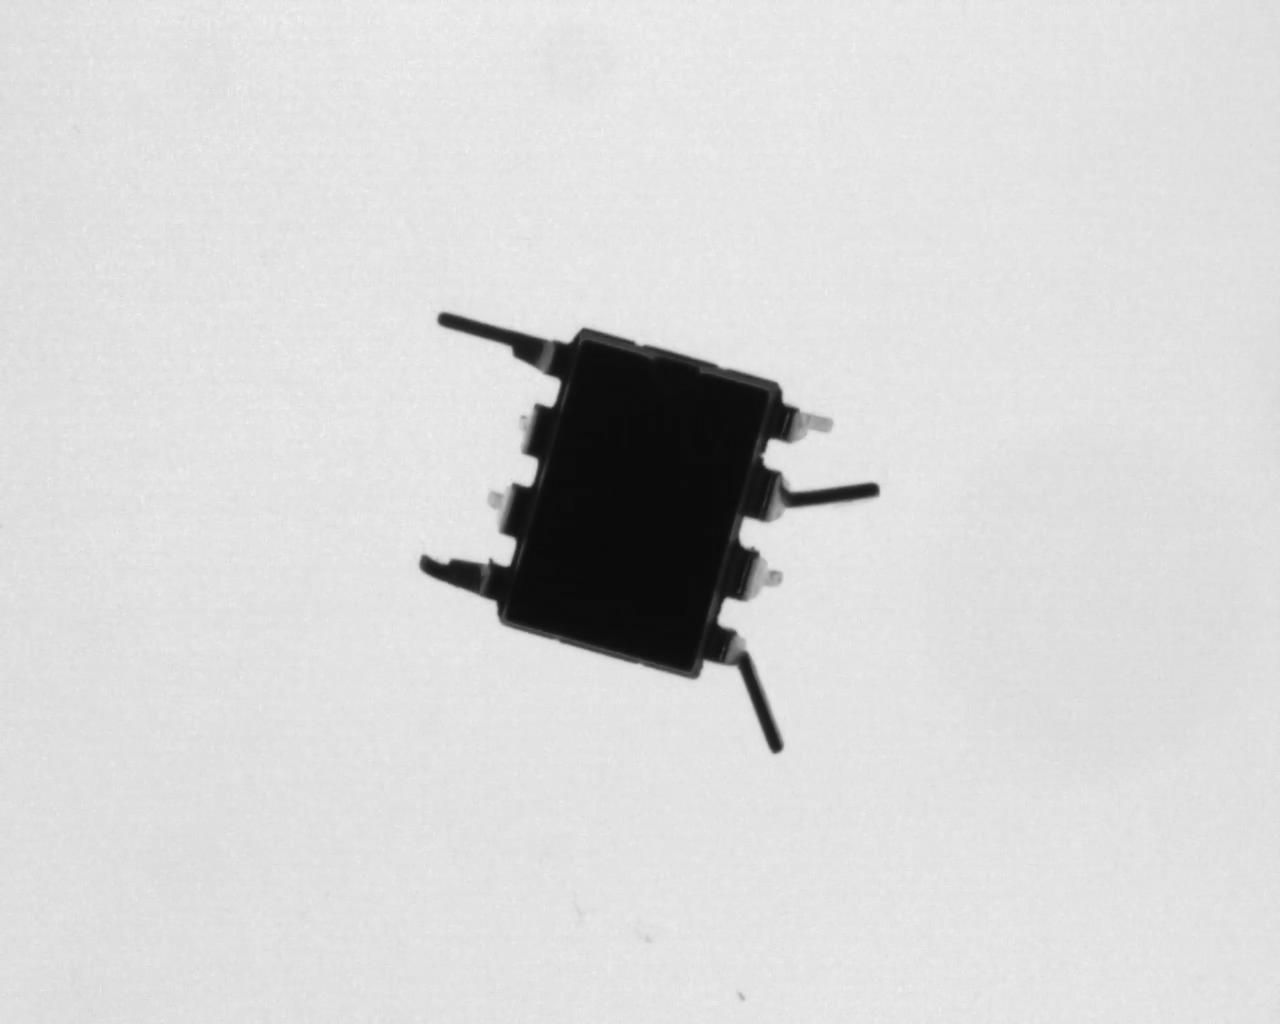Leg: (716, 626, 786, 753), (400, 540, 510, 608), (432, 310, 580, 360), (740, 473, 885, 518), (474, 478, 540, 537), (732, 551, 790, 603), (505, 400, 559, 452), (767, 404, 838, 441)
